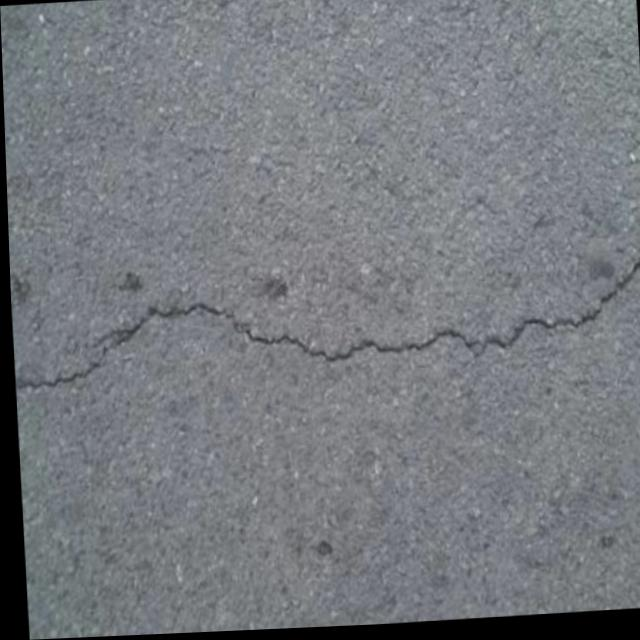Crack: (8, 254, 640, 402)
